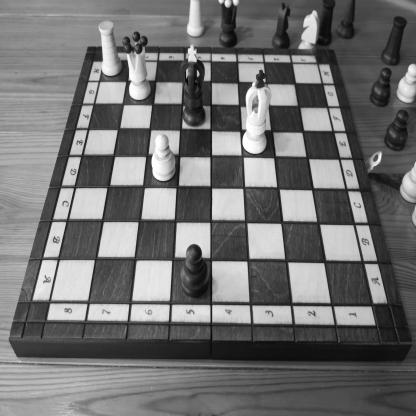black-bishop: (336, 0, 356, 40)
black-king: (179, 45, 206, 127)
black-knight: (272, 2, 290, 49)
black-pawn: (180, 244, 209, 298), (384, 109, 409, 152), (369, 66, 392, 108)
black-queen: (217, 0, 240, 48)
black-rook: (381, 16, 407, 66), (316, 0, 336, 47)
white-king: (242, 69, 272, 155)
white-knight: (298, 9, 320, 50)
white-pawn: (151, 134, 176, 182), (395, 63, 415, 105), (399, 161, 416, 204)
white-queen: (122, 31, 151, 101)
white-rook: (98, 20, 123, 77), (187, 0, 205, 37)
